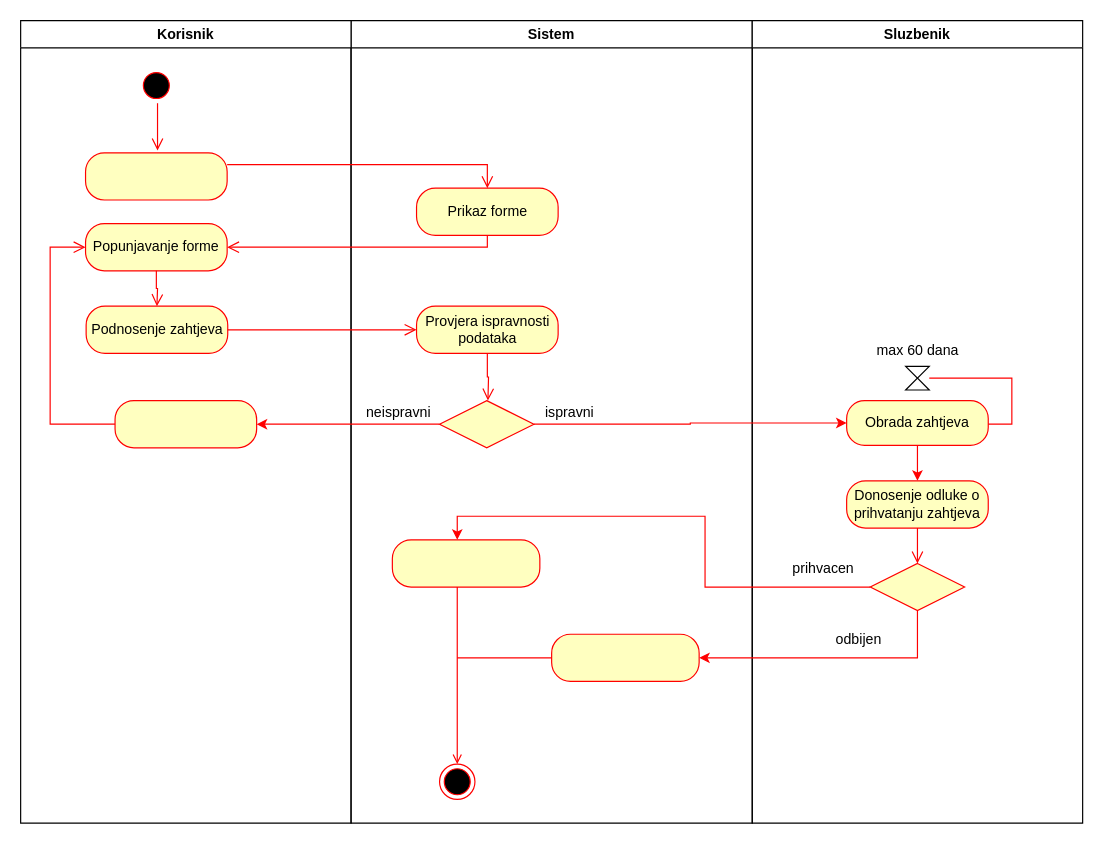
Some shapes in this 1103 by 844 pixel diagram are drawn without their labels. Here are the shapes that lost their labels. From the top down, the centre of each, then its label:
point (155, 176): Bira opciju za kreiranje zahteva
point (185, 423): Prikaz poruke o gresci
point (465, 563): Slanje mejla o prihvacenom zahtjevu
point (624, 657): Slanje mejla o odbijenom zahtjevu
